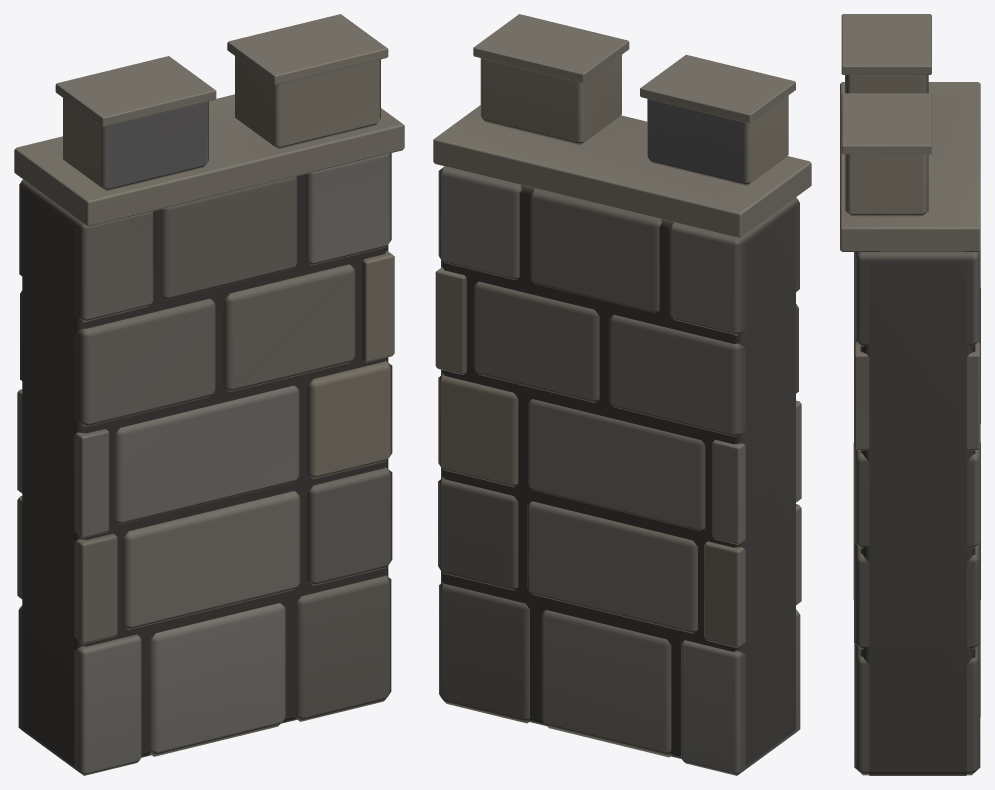
File: ashlar-curtain.59668f2d.glb
The picture shows the model from 3 angles, left to right: view 1: azimuth 30°, elevation 25°; view 2: azimuth 150°, elevation 25°; view 3: azimuth 270°, elevation 25°; orthographic projection. The views are drawn at different scales.
Parts seen in each view (by area): view 1: body; view 2: body; view 3: body.
Boxes of the visible parts, x1=… form: body: x1=14, y1=14, x2=404, y2=775; body: x1=433, y1=14, x2=811, y2=775; body: x1=840, y1=14, x2=980, y2=775.
Size of what is drawn, in the model's own units: 1 by 1.99 by 0.4053.
